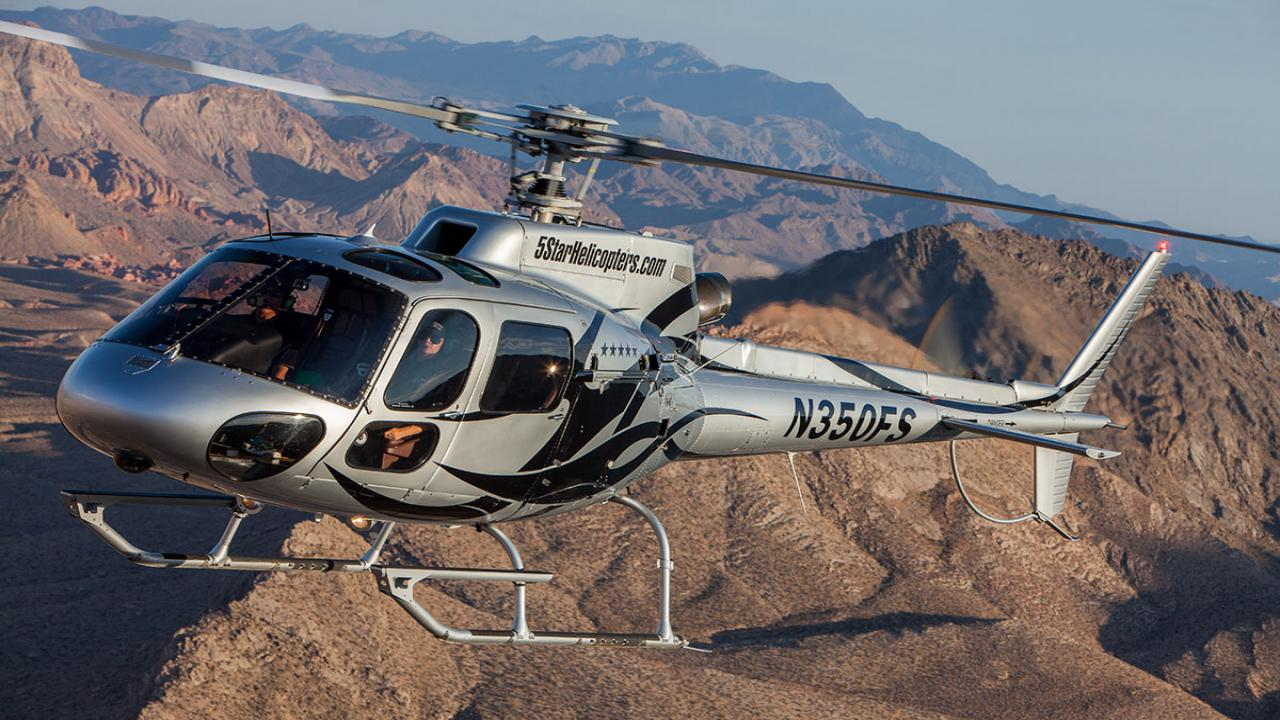Helicopter: (0, 14, 1280, 657)
